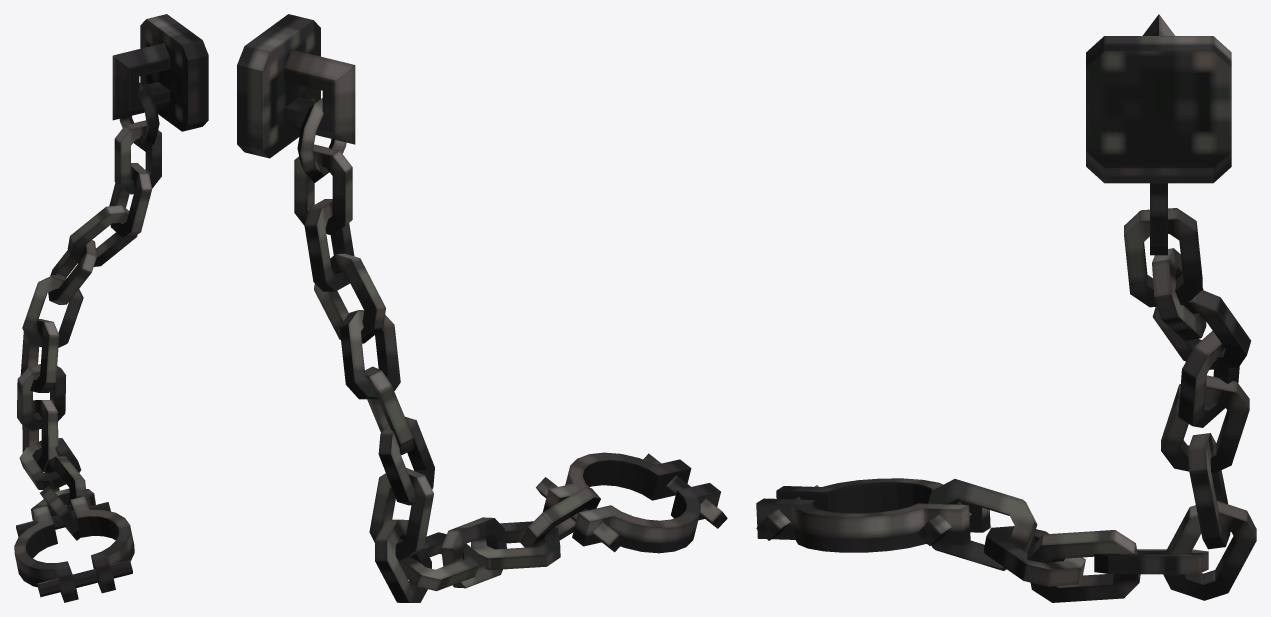
The model's file is EnvMdrMD_Castle_A_Chain_B.FBX.
3 views of the same model, side by side, from view 1: azimuth 30°, elevation 25°; view 2: azimuth 150°, elevation 25°; view 3: azimuth 270°, elevation 25° (orthographic). The views are drawn at different scales.
Parts seen in each view (by area): view 1: EnvMdrMD_Castle_A_Chain_B; view 2: EnvMdrMD_Castle_A_Chain_B; view 3: EnvMdrMD_Castle_A_Chain_B.
Part boxes in pixels (bbox=[...]): EnvMdrMD_Castle_A_Chain_B: bbox=[14, 14, 208, 602]; EnvMdrMD_Castle_A_Chain_B: bbox=[237, 14, 727, 602]; EnvMdrMD_Castle_A_Chain_B: bbox=[756, 14, 1256, 602].
Size of the model in its own units: 126 by 200 by 138.
1 material, 1 textured.
